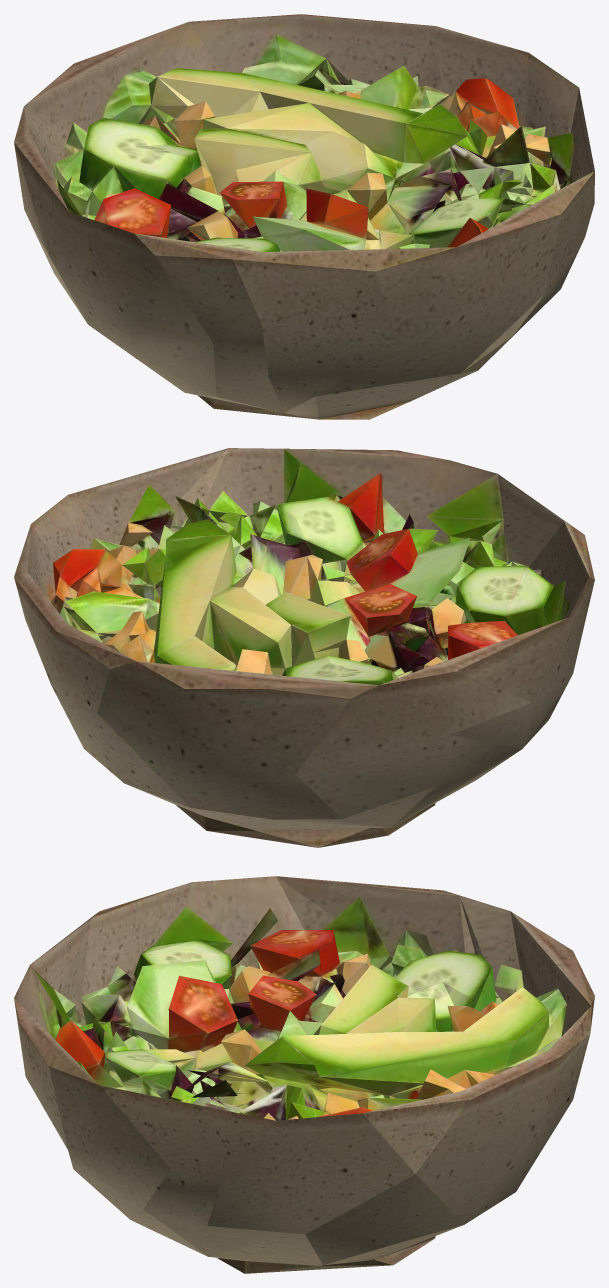
File: bowl.glb
3 renders of one model, top to bottom at view 1: azimuth 30°, elevation 25°; view 2: azimuth 150°, elevation 25°; view 3: azimuth 270°, elevation 25°, orthographic.
Parts seen in each view (by area): view 1: Mesh_0; view 2: Mesh_0; view 3: Mesh_0.
Boxes of the visible parts, bbox=[...] form: Mesh_0: bbox=[14, 14, 594, 419]; Mesh_0: bbox=[14, 448, 594, 847]; Mesh_0: bbox=[14, 876, 594, 1273].
Size of the model in its own units: 1.89 by 0.832 by 1.89.
1 material, 1 textured.
